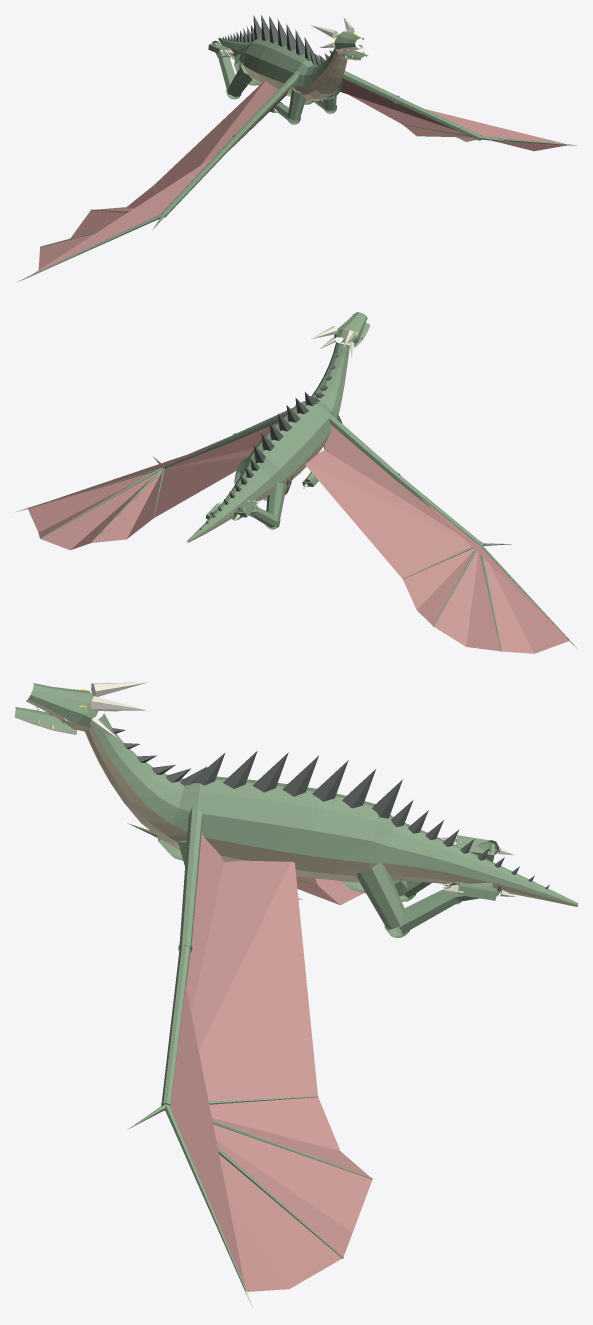
The model's file is dragons-and-wyverns-western-dragon-flying-wings-down-c07c1bc1__36701.glb.
The picture shows the model from 3 angles, top to bottom: view 1: azimuth 30°, elevation 25°; view 2: azimuth 150°, elevation 25°; view 3: azimuth 270°, elevation 25°; orthographic projection. The views are drawn at different scales.
Visible parts, largest first — view 1: western-dragon-flying-wings-down; view 2: western-dragon-flying-wings-down; view 3: western-dragon-flying-wings-down.
Boxes of the visible parts, x1=… form: western-dragon-flying-wings-down: x1=16, y1=15, x2=577, y2=282; western-dragon-flying-wings-down: x1=15, y1=312, x2=578, y2=653; western-dragon-flying-wings-down: x1=14, y1=682, x2=578, y2=1308.
Size of the model in its own units: 12.77 by 4.91 by 6.37.
